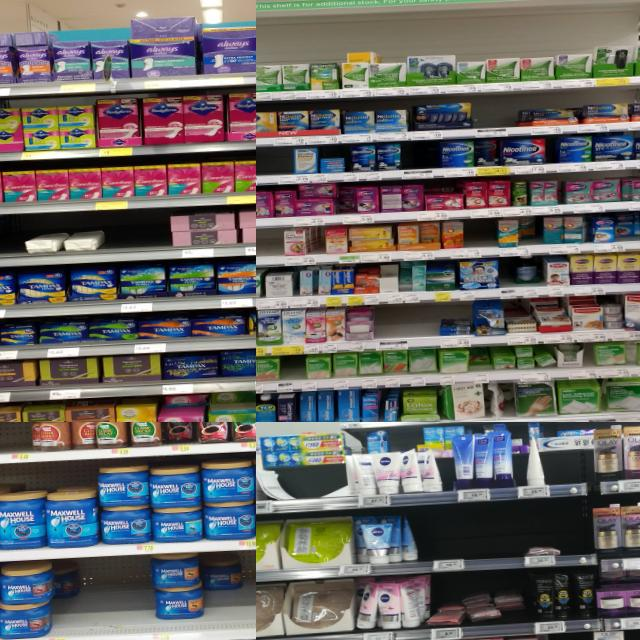100- O.O.S: (420, 502, 523, 572), (81, 558, 150, 640), (264, 464, 348, 514), (106, 208, 170, 262), (376, 303, 439, 351), (560, 505, 594, 565), (546, 450, 587, 497), (474, 94, 515, 138), (256, 147, 294, 186), (402, 140, 439, 180), (463, 218, 498, 258), (241, 550, 256, 639), (0, 215, 25, 268), (0, 422, 31, 464), (256, 227, 283, 268), (281, 355, 306, 392), (498, 258, 518, 298)
